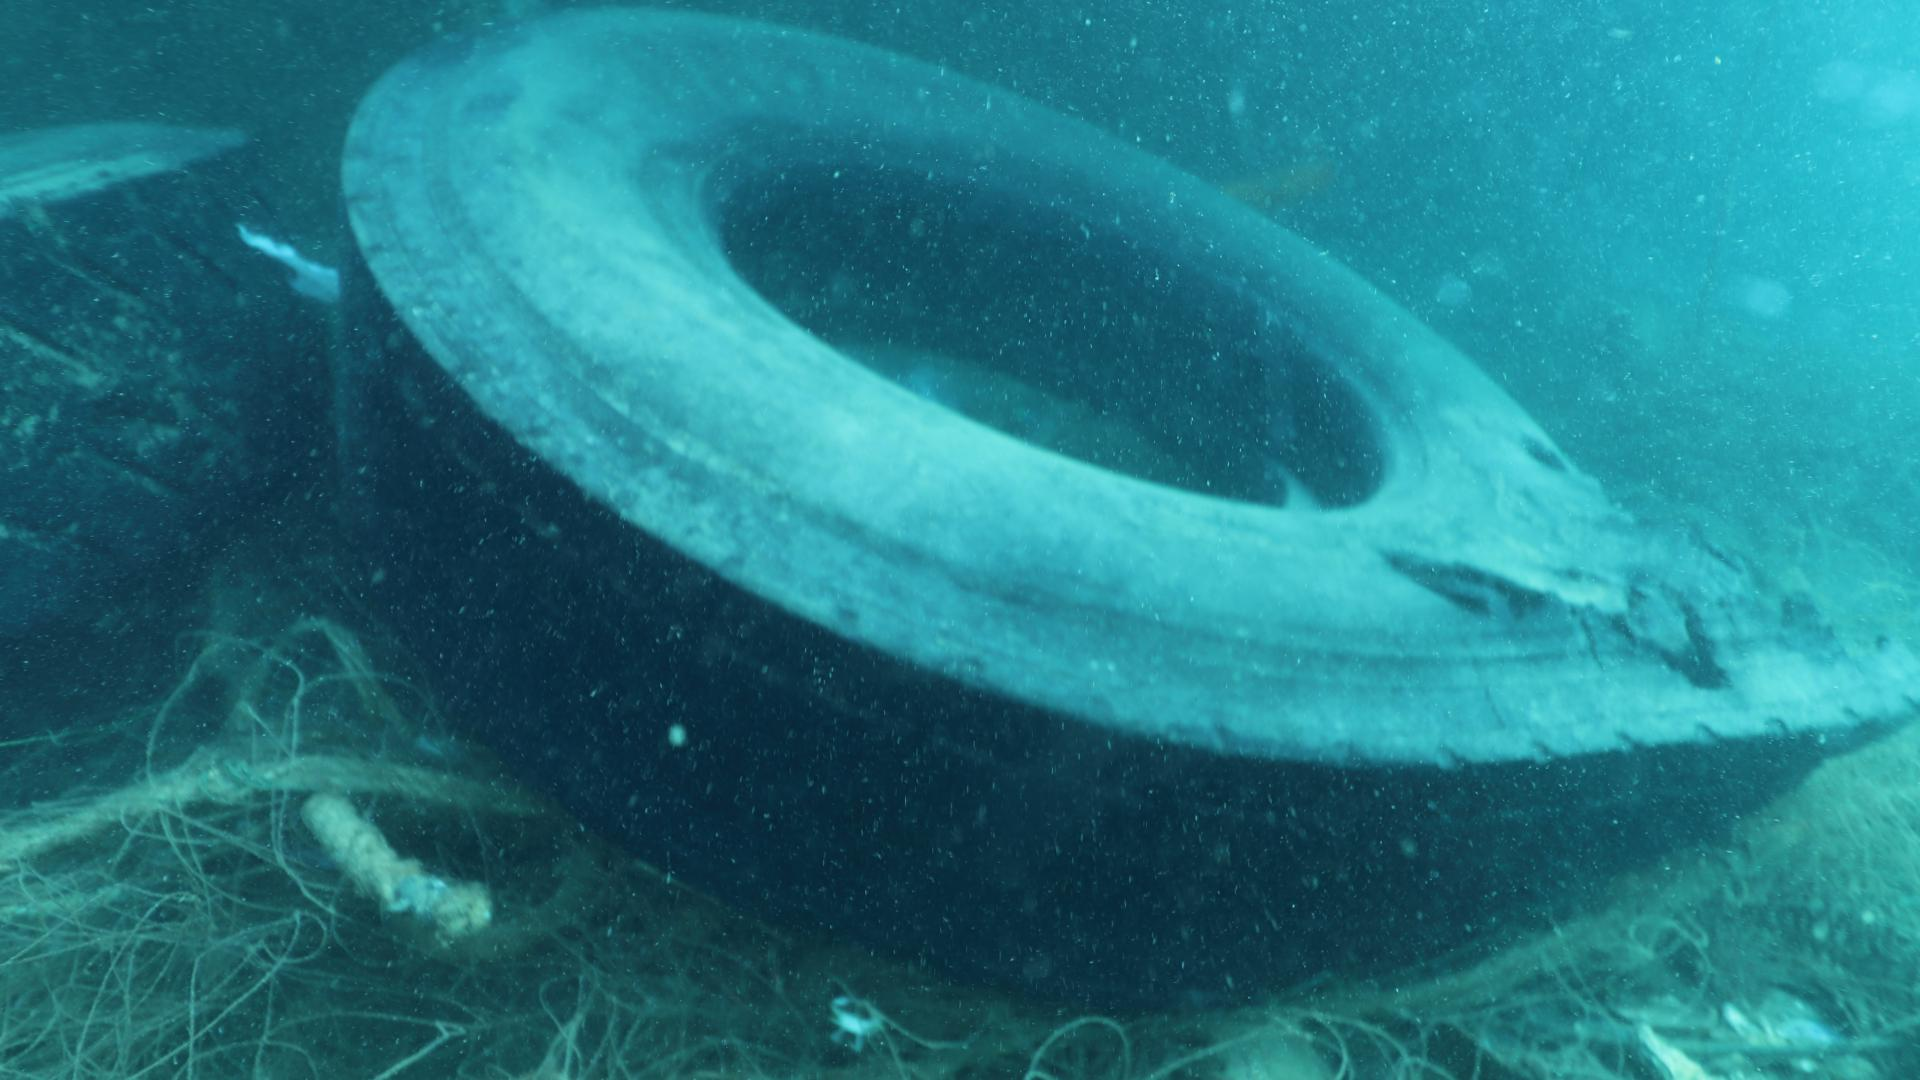tire: (334, 0, 1920, 1013)
